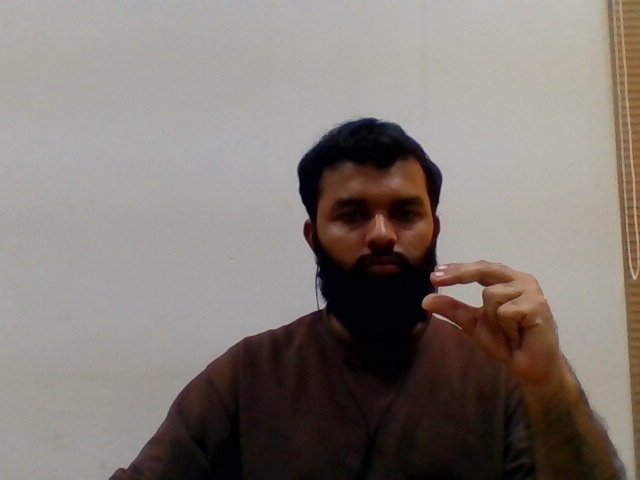No: (411, 253, 604, 382)
